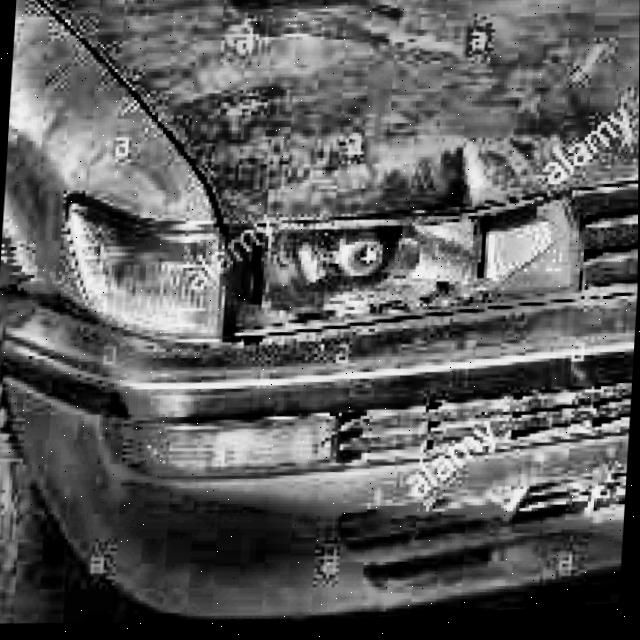head_lamp: (60, 173, 570, 341), (111, 372, 359, 502)
